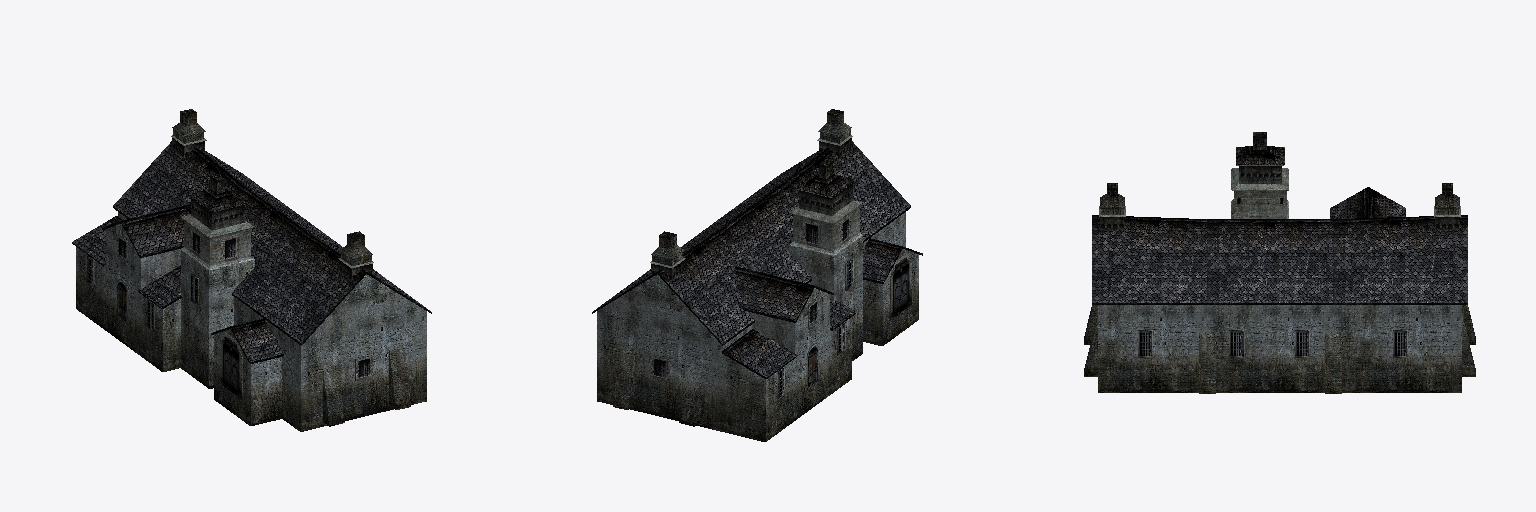
3 renders of one model, left to right at view 1: azimuth 30°, elevation 25°; view 2: azimuth 150°, elevation 25°; view 3: azimuth 270°, elevation 25°, orthographic.
Visible parts, largest first — view 1: Object_castle3.jpg; view 2: Object_castle3.jpg; view 3: Object_castle3.jpg.
Part boxes in pixels (left/top/right/bottom): Object_castle3.jpg: left=72, top=109, right=431, bottom=431; Object_castle3.jpg: left=592, top=109, right=922, bottom=441; Object_castle3.jpg: left=1084, top=132, right=1475, bottom=393.
Size of the model in its own units: 1.35 by 1.38 by 2.5.
Materials: 2 (1 with a texture image).